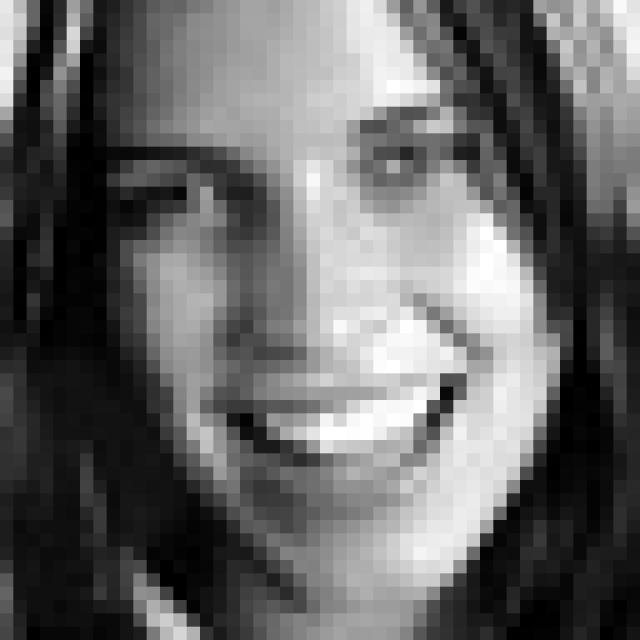happy: (110, 83, 495, 510)
